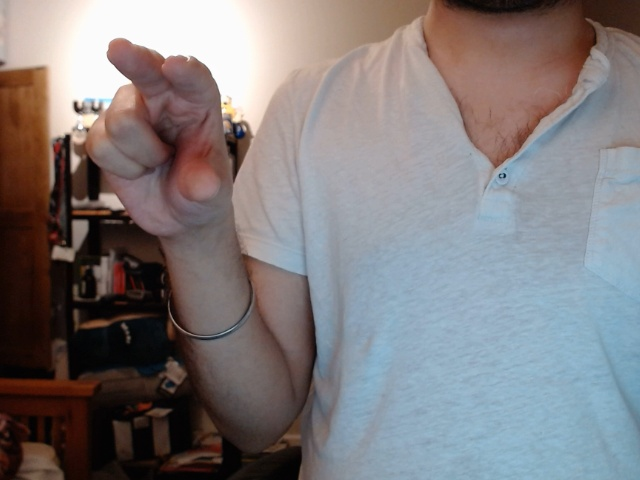No: (78, 34, 248, 252)
